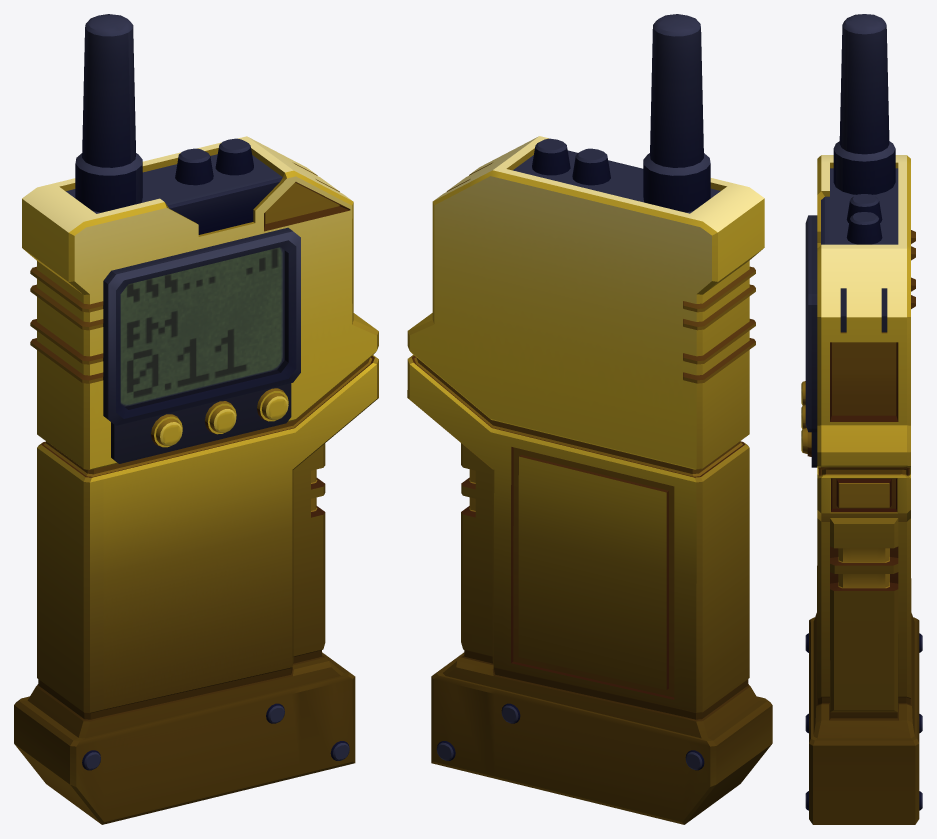
The model's file is WalkieTalkie.fbx.
3 renders of one model, left to right at view 1: azimuth 30°, elevation 25°; view 2: azimuth 150°, elevation 25°; view 3: azimuth 270°, elevation 25°, orthographic. The views are drawn at different scales.
Parts seen in each view (by area): view 1: Cube; view 2: Cube; view 3: Cube.
Part boxes in pixels (bbox=[...]): Cube: bbox=[14, 14, 378, 824]; Cube: bbox=[407, 14, 772, 824]; Cube: bbox=[801, 14, 922, 824].
Bounding box in the file's own units: 248 × 585 × 90.64.
Materials: 1 (1 with a texture image).
